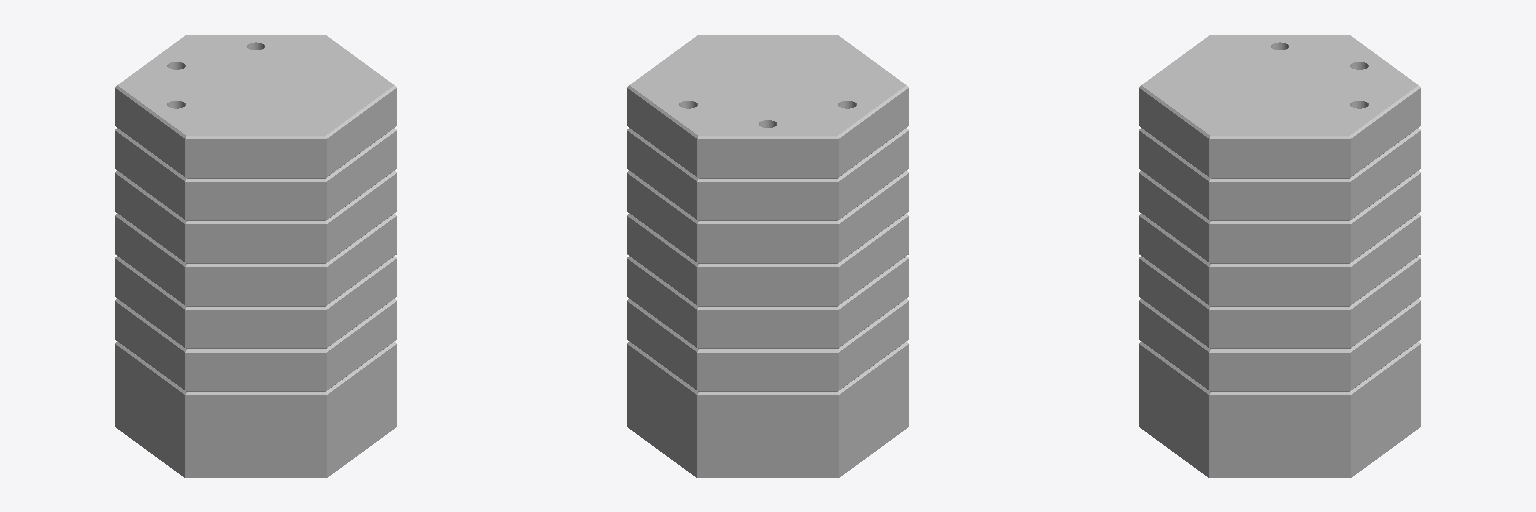
The model's file is lvl7A.obj.
The picture shows the model from 3 angles: view 1: azimuth 30°, elevation 25°; view 2: azimuth 150°, elevation 25°; view 3: azimuth 270°, elevation 25°; orthographic projection.
Visible parts, largest first — view 1: Lvl7A-3_(Mono-NoMags); view 2: Lvl7A-3_(Mono-NoMags); view 3: Lvl7A-3_(Mono-NoMags).
Part boxes in pixels (left/top/right/bottom): Lvl7A-3_(Mono-NoMags): left=115, top=35, right=396, bottom=477; Lvl7A-3_(Mono-NoMags): left=627, top=35, right=908, bottom=477; Lvl7A-3_(Mono-NoMags): left=1139, top=35, right=1420, bottom=477.
Bounding box in the file's own units: 3.13 × 4.83 × 3.62.